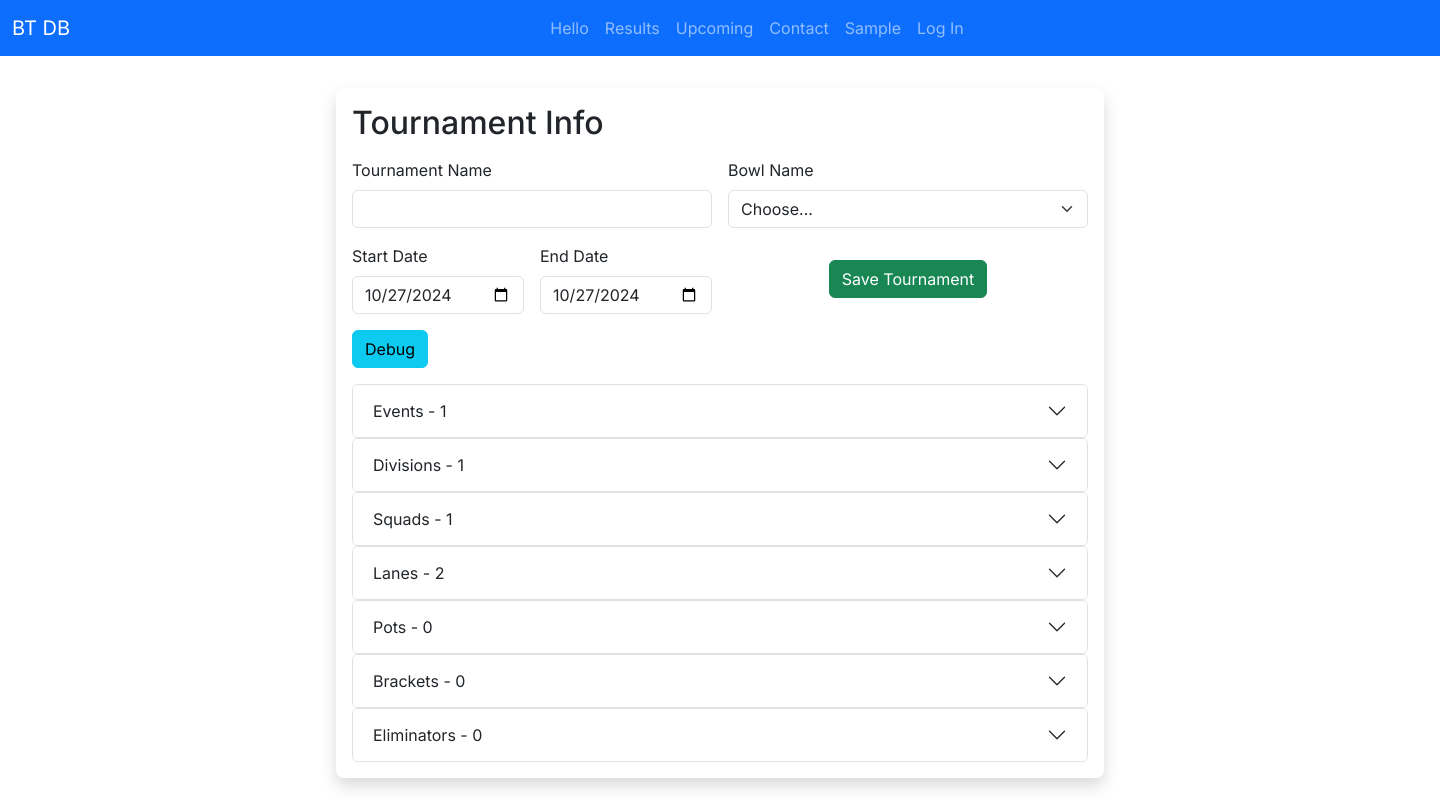
it: TmntDataPage - Divs Component › click on the divs accordian › render the divs tab
The image size is (1440, 800).
Click the button "Divisions - 1". click: (415, 465)
box: 353,439 -> 1087,491
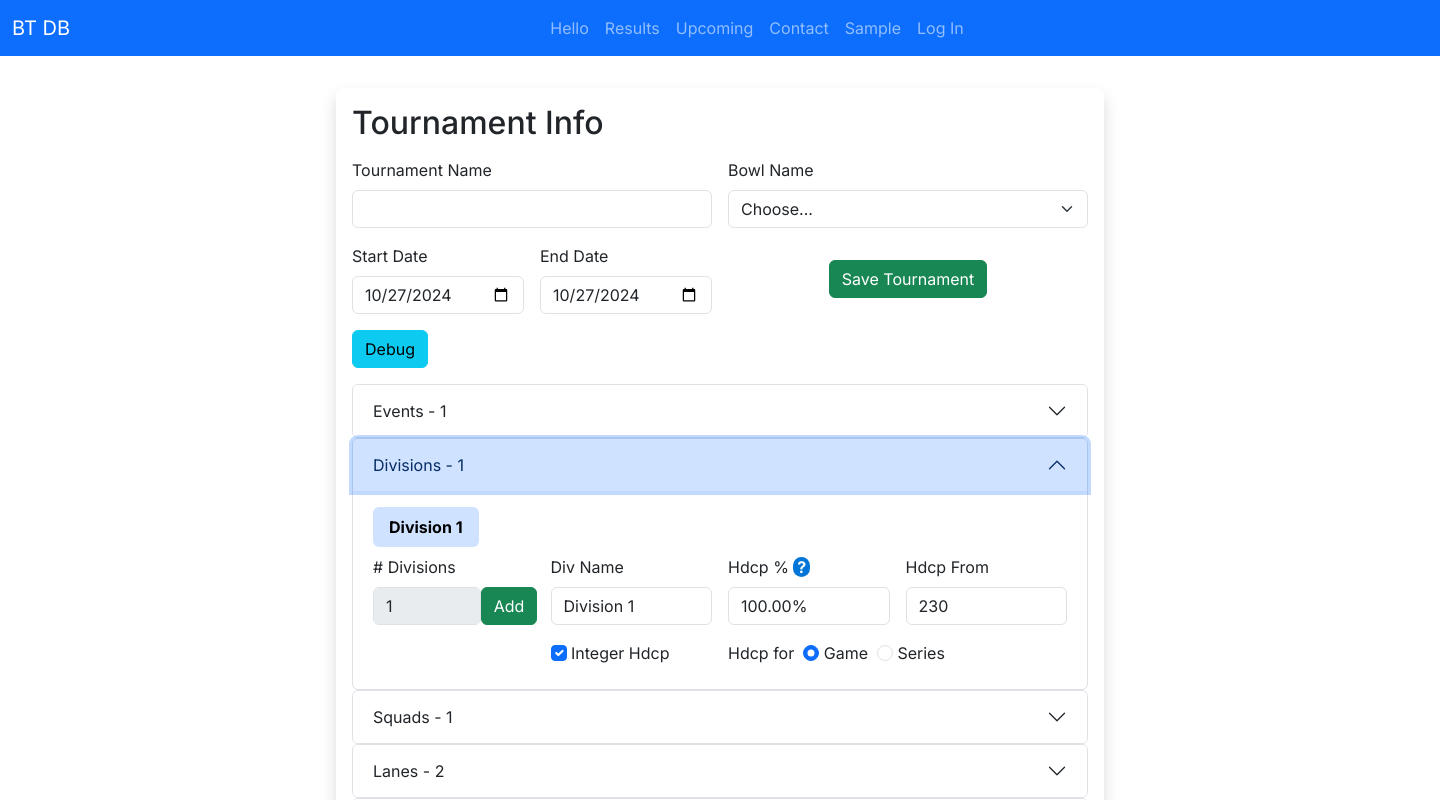
Expected: the tab "Division 1" is shown, 373,507 -> 479,547
